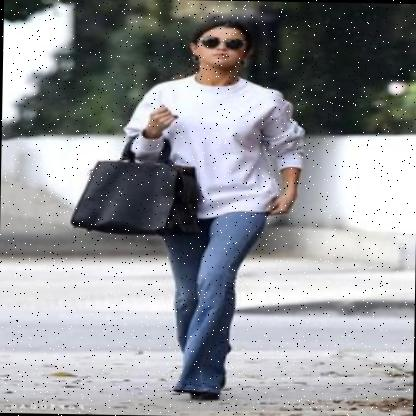bag: (63, 126, 207, 245)
person: (115, 12, 319, 404)
